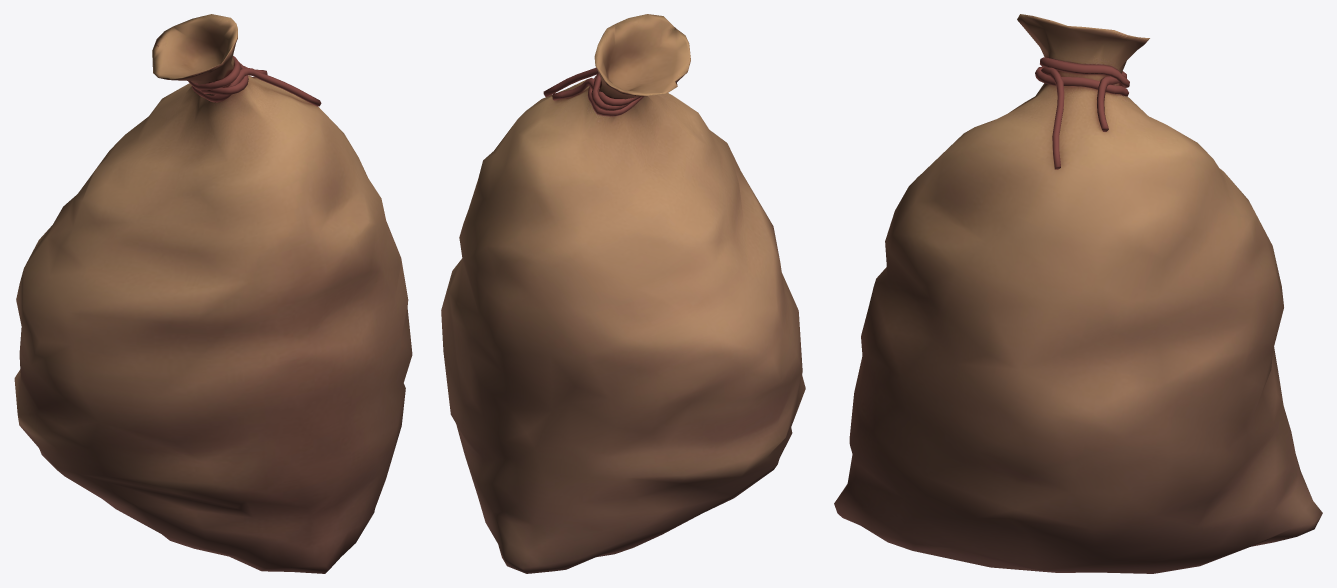
The model's file is SM_Bag1.glb.
3 renders of one model, left to right at view 1: azimuth 30°, elevation 25°; view 2: azimuth 150°, elevation 25°; view 3: azimuth 270°, elevation 25°, orthographic. The views are drawn at different scales.
Visible parts, largest first — view 1: SM_Bag1_LOD0; view 2: SM_Bag1_LOD0; view 3: SM_Bag1_LOD0.
Part boxes in pixels (box(x1,y1,x2,y2)): SM_Bag1_LOD0: box(14, 14, 412, 573); SM_Bag1_LOD0: box(441, 14, 805, 573); SM_Bag1_LOD0: box(834, 14, 1322, 573).
Bounding box in the file's own units: 0.2922 × 0.3868 × 0.3345.
Materials: 1 (1 with a texture image).
